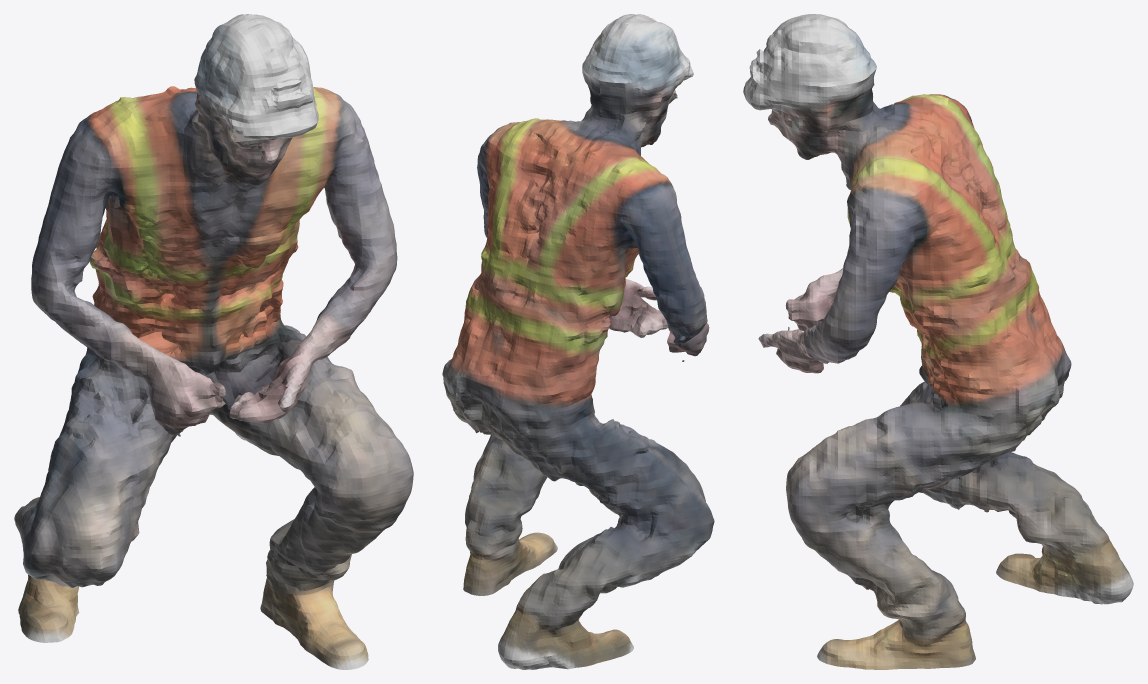
File: standup_6.glb
The picture shows the model from 3 angles, left to right: view 1: azimuth 30°, elevation 25°; view 2: azimuth 150°, elevation 25°; view 3: azimuth 270°, elevation 25°; orthographic projection. The views are drawn at different scales.
Parts seen in each view (by area): view 1: world; view 2: world; view 3: world.
Part boxes in pixels (x1=…): world: x1=14, y1=14, x2=413, y2=669; world: x1=442, y1=14, x2=714, y2=669; world: x1=743, y1=14, x2=1133, y2=669.
Bounding box in the file's own units: 0.7248 × 1.45 × 0.8627.
